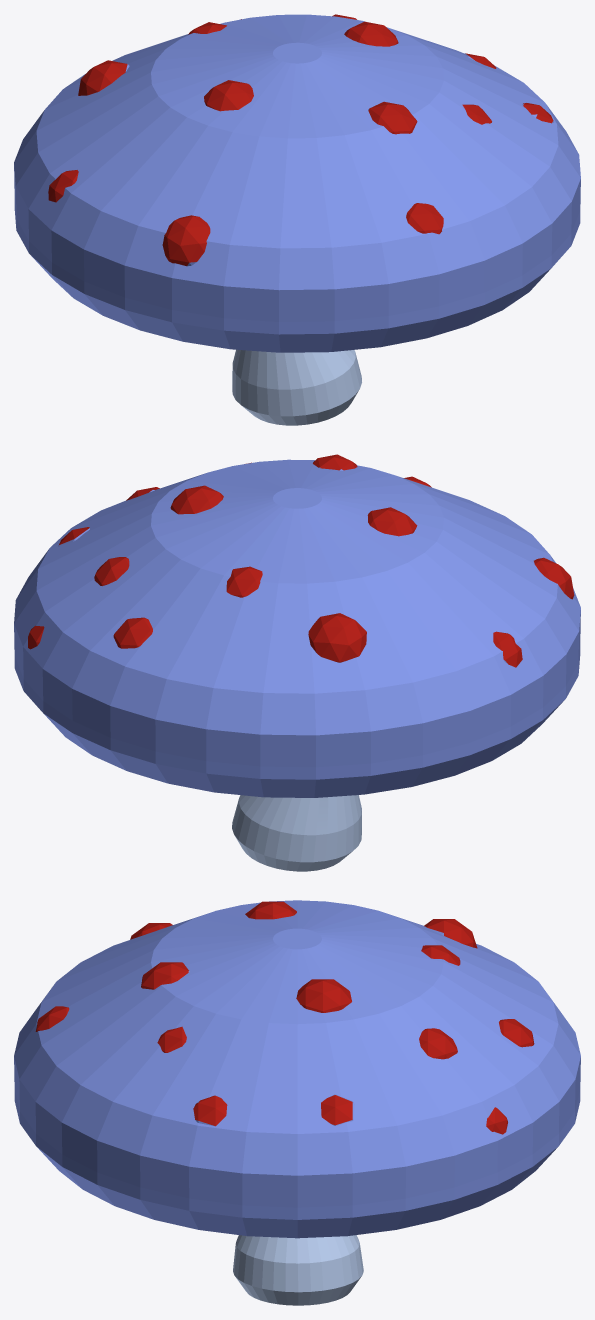
File: MushroomBounch3.fbx
The picture shows the model from 3 angles, top to bottom: view 1: azimuth 30°, elevation 25°; view 2: azimuth 150°, elevation 25°; view 3: azimuth 270°, elevation 25°; orthographic projection.
Parts seen in each view (by area): view 1: HeadMushroom.033, BodyMushroom.001; view 2: HeadMushroom.033, BodyMushroom.001; view 3: HeadMushroom.033, BodyMushroom.001.
Part boxes in pixels (x1=…): HeadMushroom.033: x1=14, y1=14, x2=580, y2=352; BodyMushroom.001: x1=232, y1=349, x2=361, y2=425; HeadMushroom.033: x1=14, y1=454, x2=580, y2=797; BodyMushroom.001: x1=232, y1=795, x2=361, y2=871; HeadMushroom.033: x1=14, y1=900, x2=580, y2=1238; BodyMushroom.001: x1=233, y1=1235, x2=363, y2=1305.
Size of the model in its own units: 8.34 by 5.83 by 8.34.
